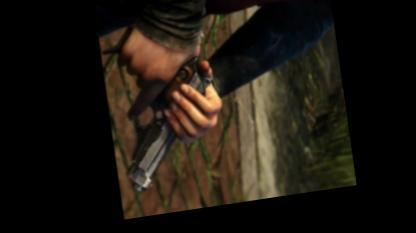pistol: (100, 0, 228, 196)
